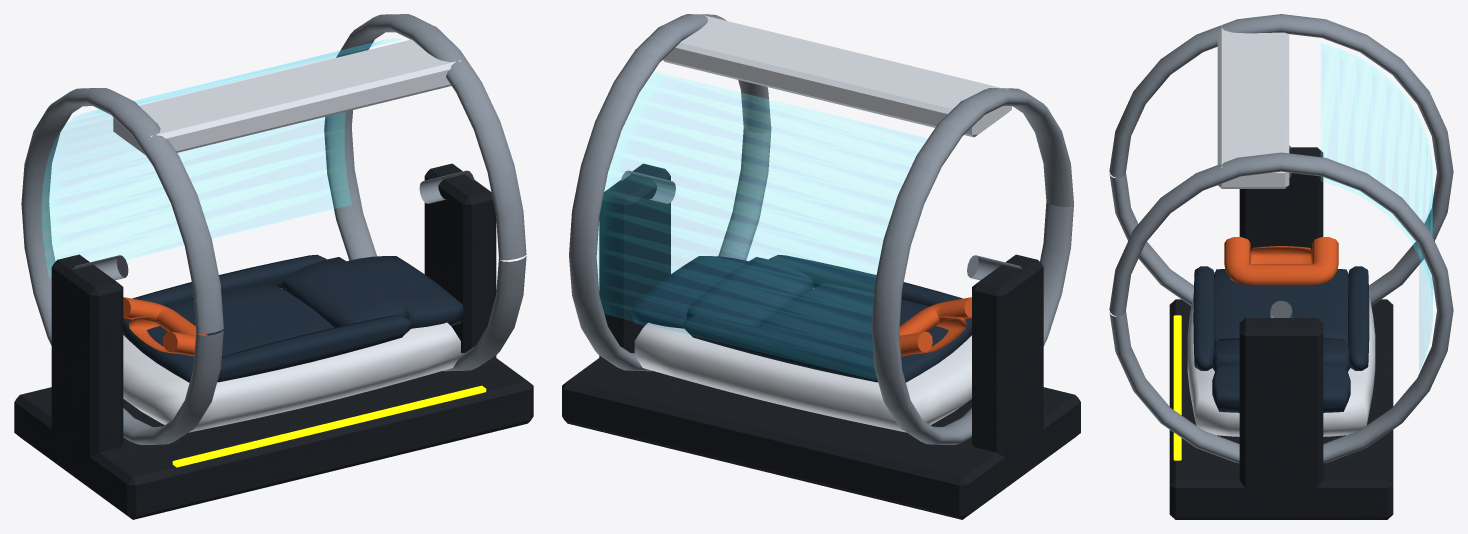
File: bunk_r2_06.glb
3 renders of one model, left to right at view 1: azimuth 30°, elevation 25°; view 2: azimuth 150°, elevation 25°; view 3: azimuth 270°, elevation 25°, orthographic. The views are drawn at different scales.
Parts seen in each view (by area): view 1: GyroCradle_GunmetalPedestalStands, GyroCradle_MachinedSteelGyroRings, GyroCradle_SuspendedWhitePodShell, GyroCradle_TranslucentViewingCanopy, GyroCradle_OrbitalNavyFlightCouch, GyroCradle_SignalOrangeHeadCradle, GyroCradle_AmberBaseLED; view 2: GyroCradle_TranslucentViewingCanopy, GyroCradle_GunmetalPedestalStands, GyroCradle_MachinedSteelGyroRings, GyroCradle_SuspendedWhitePodShell, GyroCradle_OrbitalNavyFlightCouch, GyroCradle_SignalOrangeHeadCradle; view 3: GyroCradle_GunmetalPedestalStands, GyroCradle_MachinedSteelGyroRings, GyroCradle_SuspendedWhitePodShell, GyroCradle_OrbitalNavyFlightCouch, GyroCradle_TranslucentViewingCanopy, GyroCradle_SignalOrangeHeadCradle, GyroCradle_AmberBaseLED.
Boxes of the visible parts, <box> form: GyroCradle_GunmetalPedestalStands: <box>14,163,533,519</box>; GyroCradle_MachinedSteelGyroRings: <box>21,14,526,444</box>; GyroCradle_SuspendedWhitePodShell: <box>113,39,461,432</box>; GyroCradle_TranslucentViewingCanopy: <box>42,39,402,277</box>; GyroCradle_OrbitalNavyFlightCouch: <box>123,254,463,382</box>; GyroCradle_SignalOrangeHeadCradle: <box>123,297,207,356</box>; GyroCradle_AmberBaseLED: <box>172,385,486,467</box>; GyroCradle_TranslucentViewingCanopy: <box>597,72,927,379</box>; GyroCradle_GunmetalPedestalStands: <box>562,163,1080,519</box>; GyroCradle_MachinedSteelGyroRings: <box>569,14,1073,444</box>; GyroCradle_SuspendedWhitePodShell: <box>634,14,1011,432</box>; GyroCradle_OrbitalNavyFlightCouch: <box>631,254,971,382</box>; GyroCradle_SignalOrangeHeadCradle: <box>899,297,971,356</box>; GyroCradle_GunmetalPedestalStands: <box>1169,147,1393,519</box>; GyroCradle_MachinedSteelGyroRings: <box>1109,14,1453,463</box>; GyroCradle_SuspendedWhitePodShell: <box>1187,25,1375,436</box>; GyroCradle_OrbitalNavyFlightCouch: <box>1193,266,1369,412</box>; GyroCradle_TranslucentViewingCanopy: <box>1321,43,1432,370</box>; GyroCradle_SignalOrangeHeadCradle: <box>1224,237,1338,285</box>; GyroCradle_AmberBaseLED: <box>1173,315,1181,460</box>.
Bounding box in the file's own units: 2.2 × 1.9 × 1.72.
8 materials, 8 textured.
